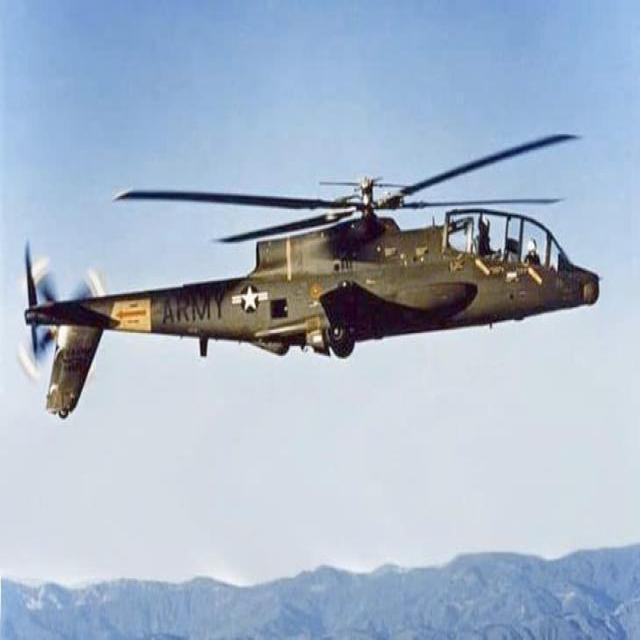MIL_HELO: (34, 132, 624, 425)
